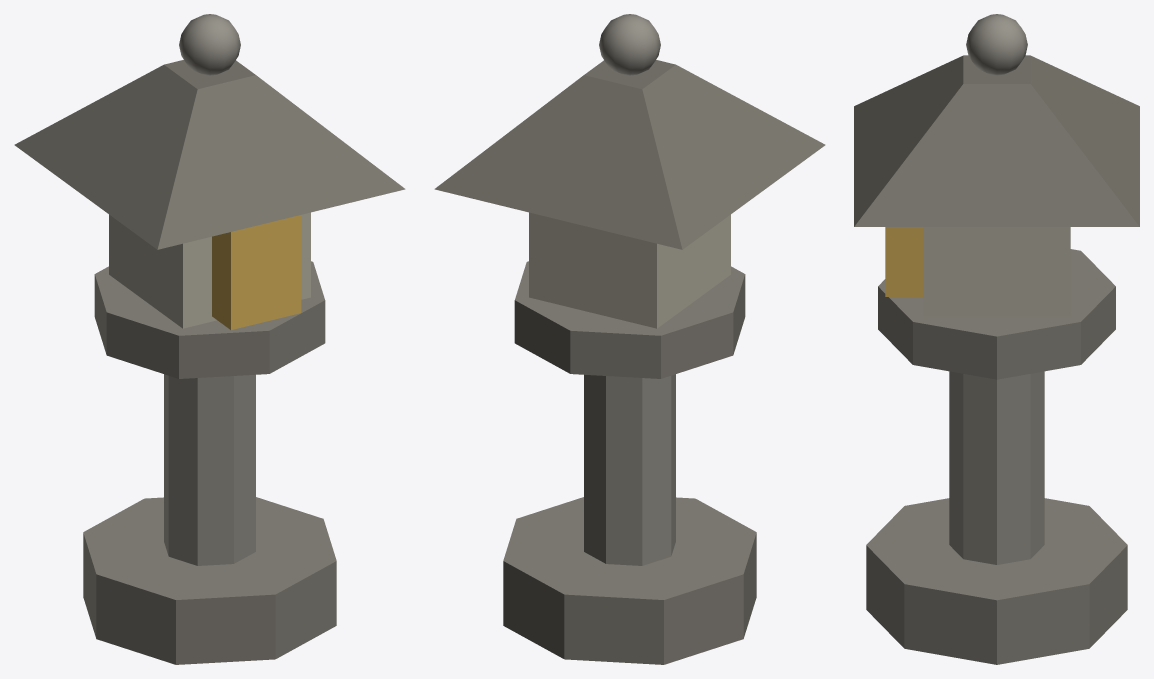
Rendered from deco_toro_lite.glb.
3 views of the same model, side by side, from view 1: azimuth 30°, elevation 25°; view 2: azimuth 150°, elevation 25°; view 3: azimuth 270°, elevation 25° (orthographic).
Parts seen in each view (by area): view 1: Cylinder; view 2: Cylinder; view 3: Cylinder.
Part boxes in pixels (x1,y1,x2,y2): Cylinder: (14, 14, 405, 664); Cylinder: (434, 14, 825, 664); Cylinder: (854, 14, 1139, 664).
Bounding box in the file's own units: 1.2 × 2.75 × 1.2.
